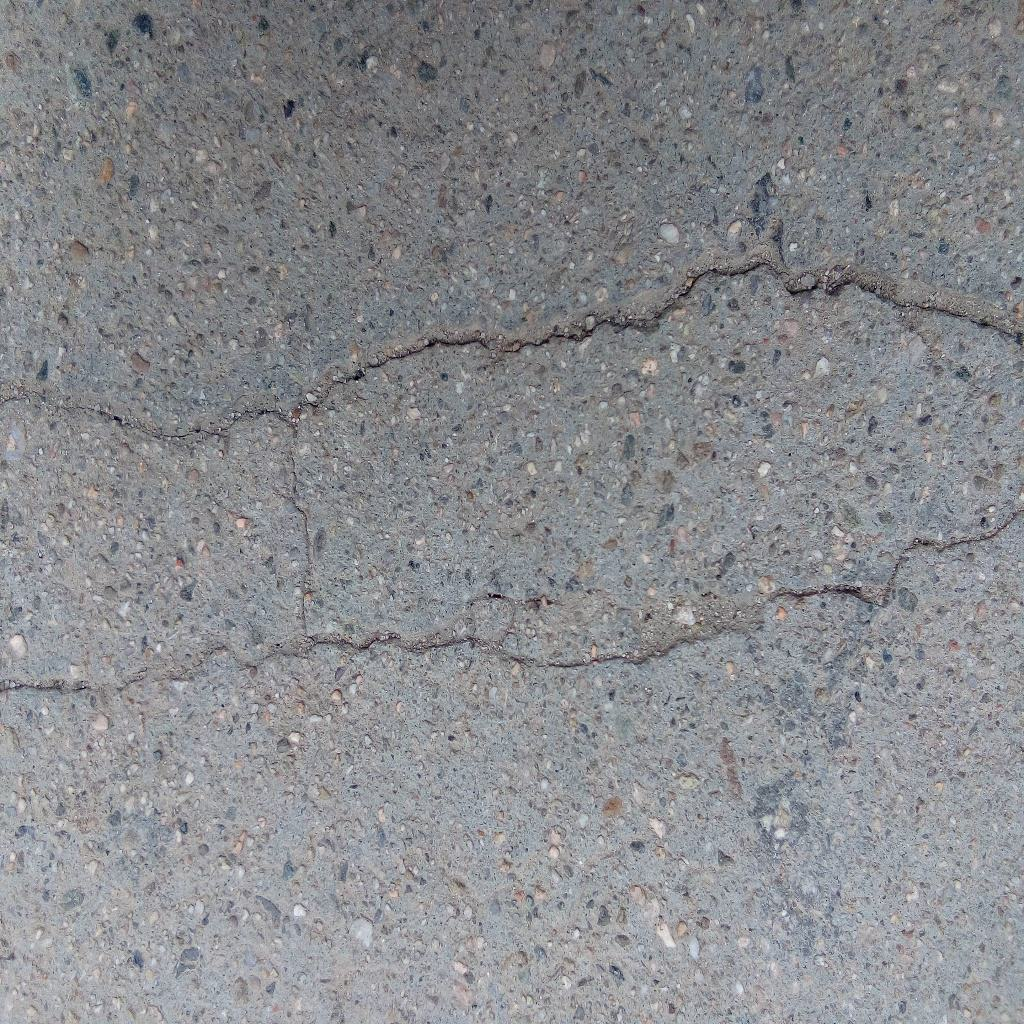Crack: (1, 258, 1024, 449), (1, 506, 1024, 695), (282, 424, 312, 637)
